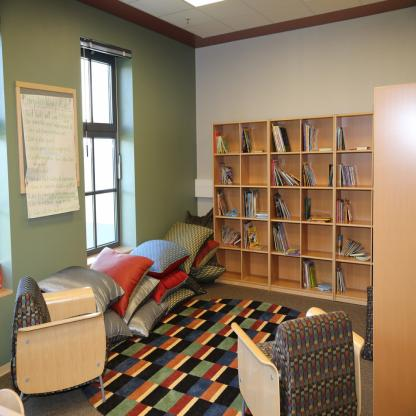book: (337, 232, 369, 261), (271, 160, 301, 188), (242, 189, 268, 220), (272, 225, 298, 254), (242, 128, 266, 156), (306, 200, 333, 223), (216, 190, 238, 216), (272, 121, 289, 154), (301, 162, 320, 190), (302, 121, 318, 154), (339, 162, 359, 188), (220, 226, 243, 247), (302, 259, 317, 291), (335, 197, 352, 224), (274, 192, 290, 220), (243, 224, 261, 248), (337, 126, 356, 148), (213, 128, 229, 154), (218, 163, 235, 185), (241, 126, 255, 152), (280, 126, 291, 153), (334, 270, 346, 292), (337, 127, 345, 154), (214, 132, 220, 156)
